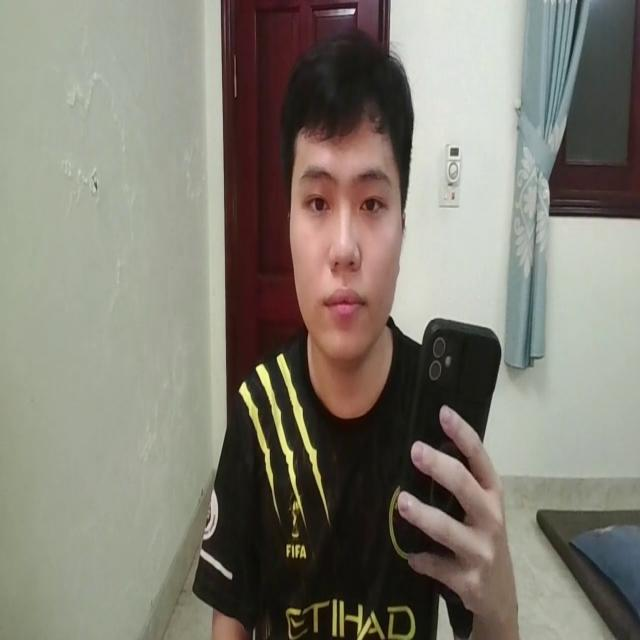phone: (396, 310, 501, 555)
student: (195, 28, 516, 640)
